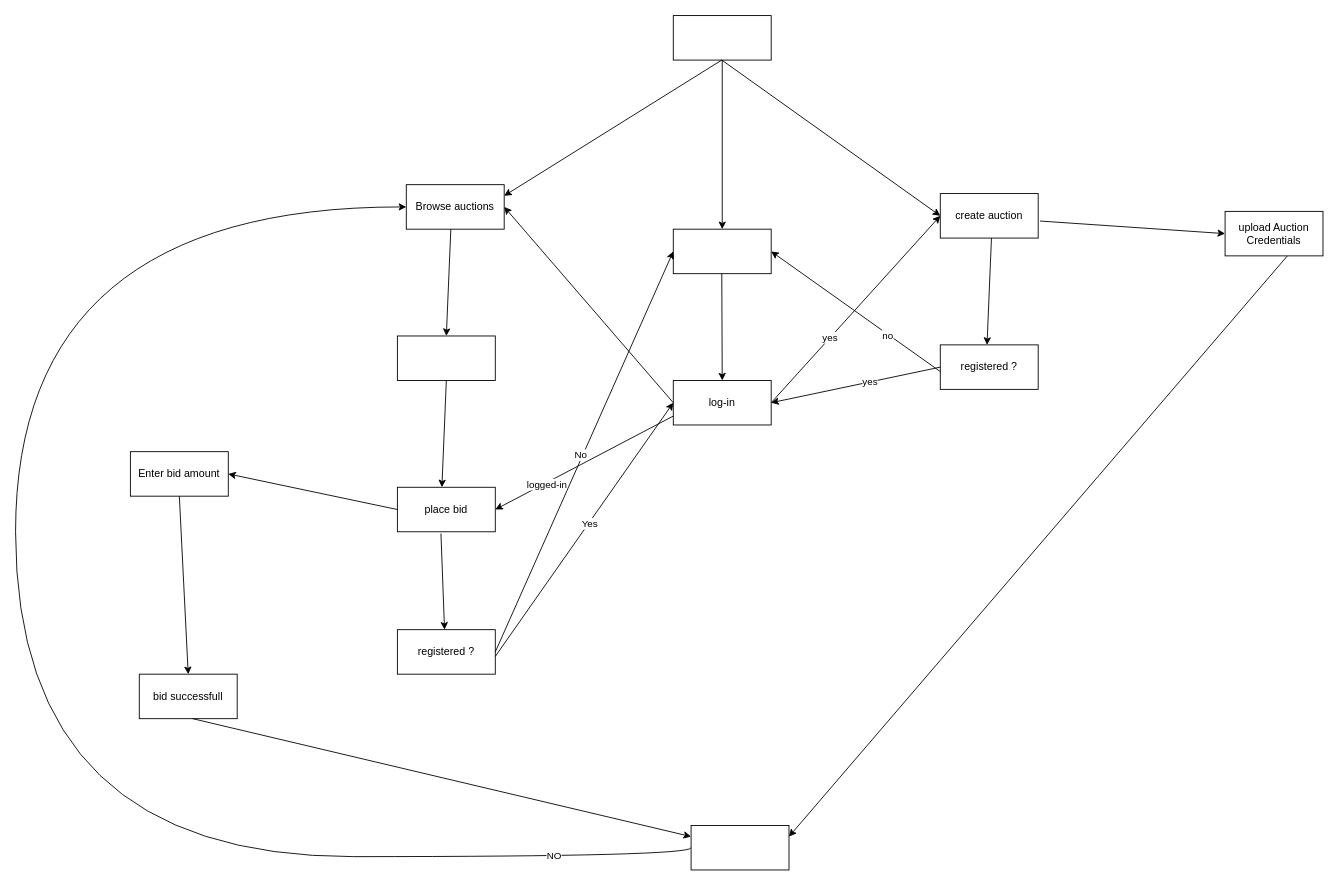
Some shapes in this 1339 by 886 pixel diagram are drawn without their labels. Each missing label, with the centre of its shape:
End: (x=739, y=847)
Register: (x=721, y=251)
Start: (x=721, y=37)
view auction: (x=445, y=357)
